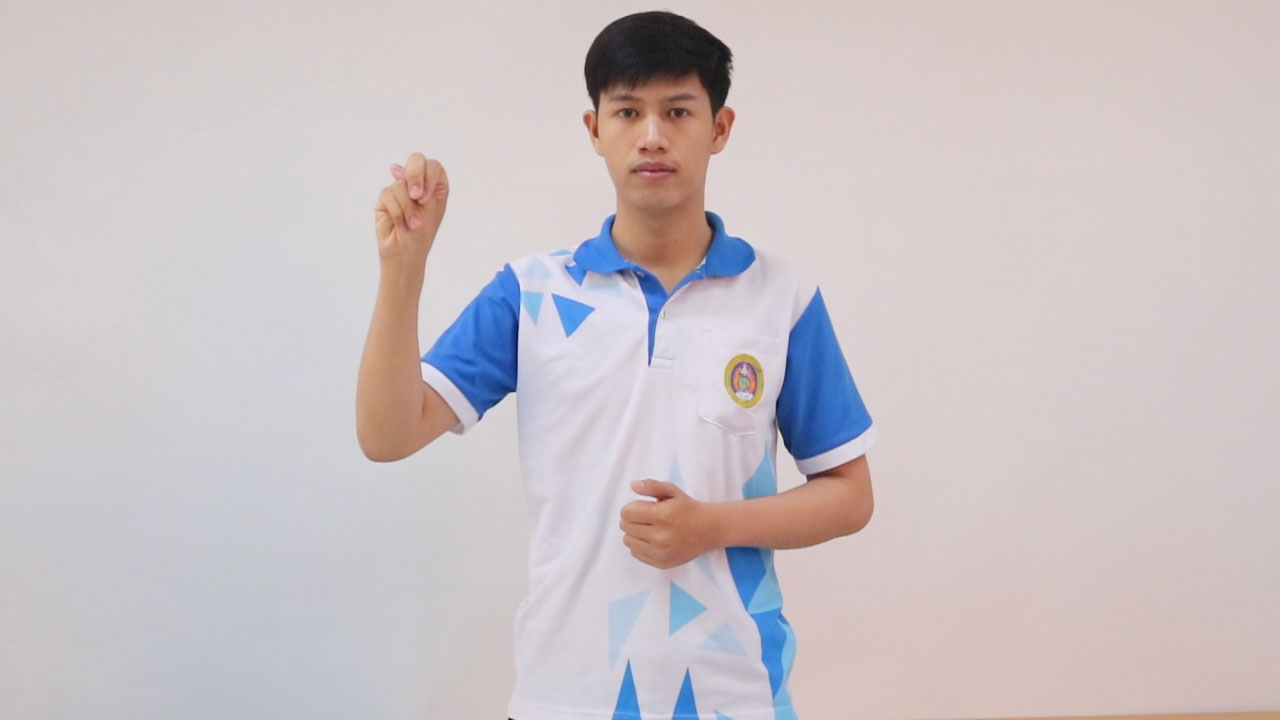nor: (364, 139, 460, 261)
